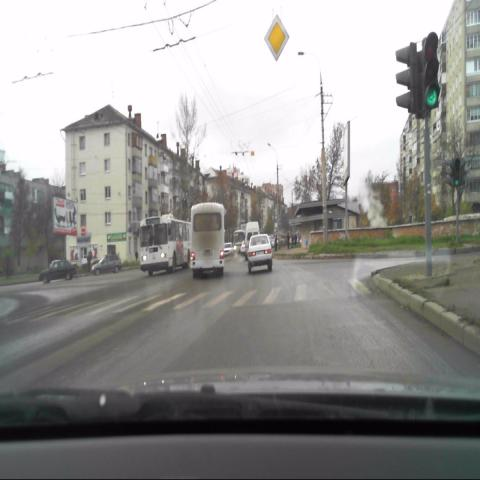2_1: (264, 14, 290, 63)
